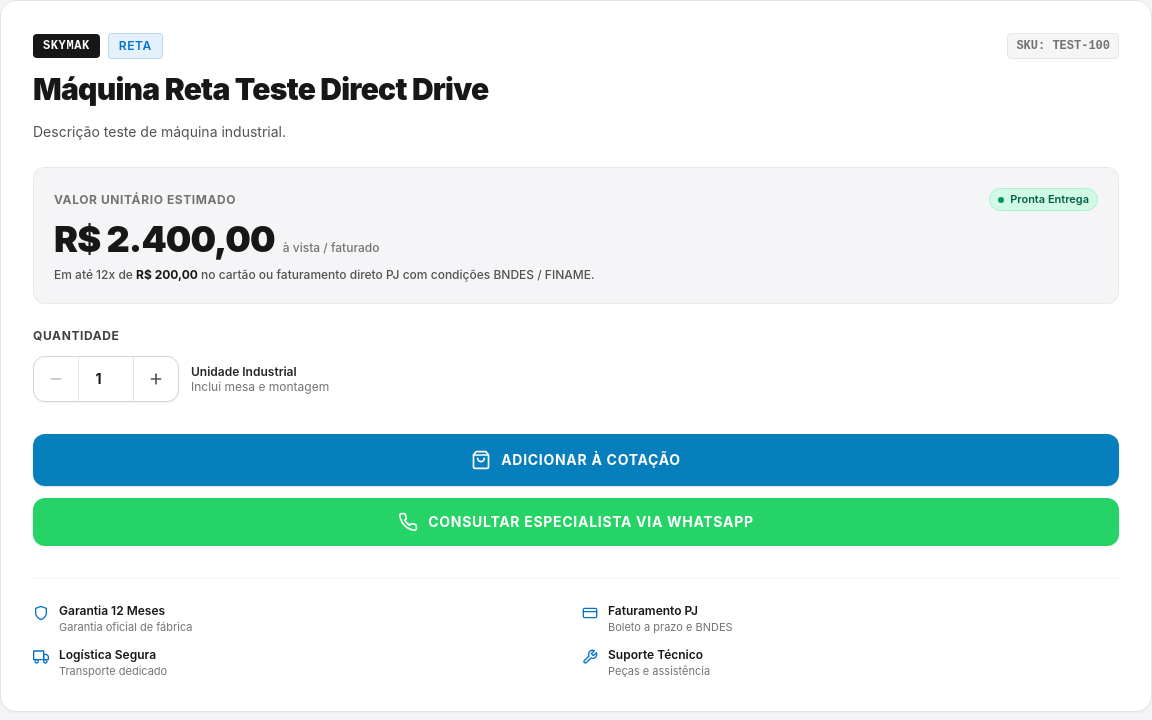
Test: PdpBuyBoxComponent › should handle manual quantity changes
The width and height of the screenshot is (1152, 720).
Replace the text in the number field labelled "Quantidade" with "5" at (106, 379), box [78,357,134,401]
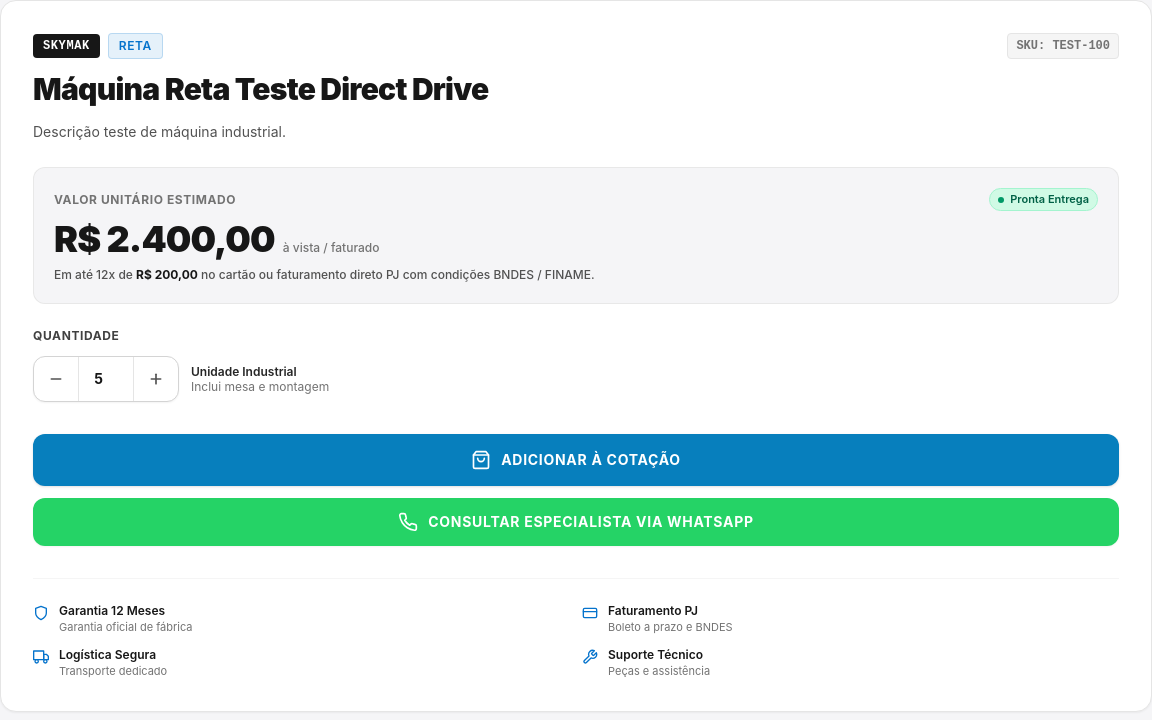
Replace the text in the number field labelled "Quantidade" with "-2" at (106, 379), box [78,357,134,401]
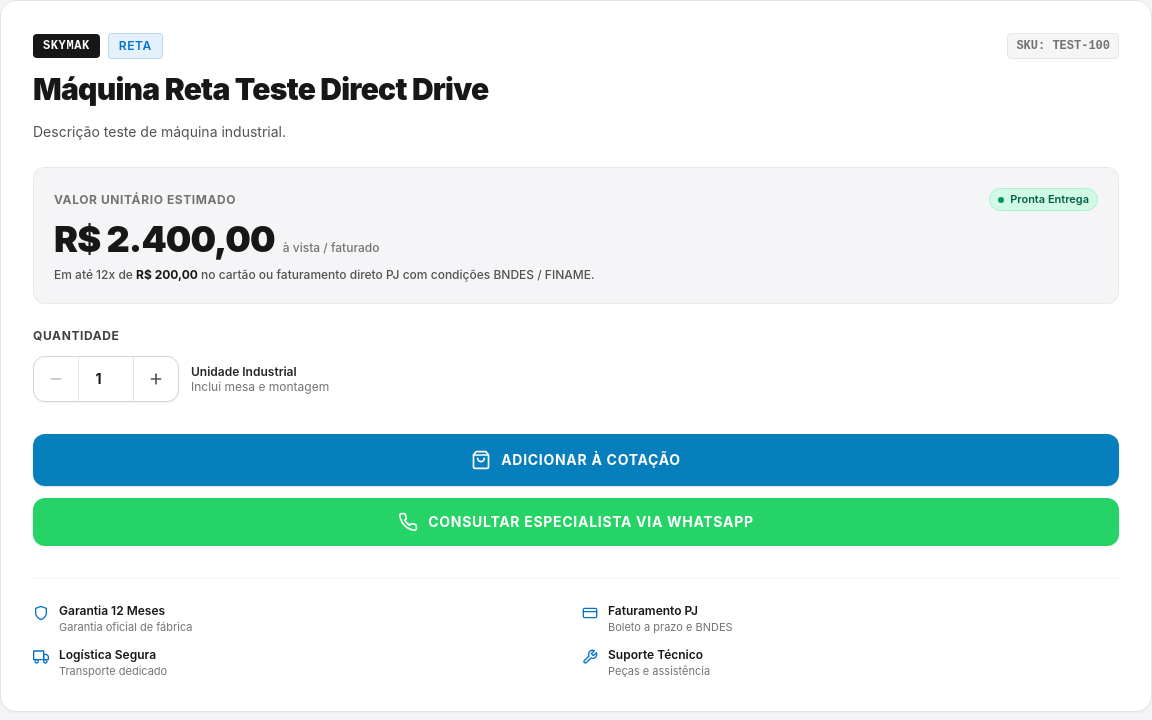
Expected: the number field labelled "Quantidade" holds "1", [78,357,134,401]
